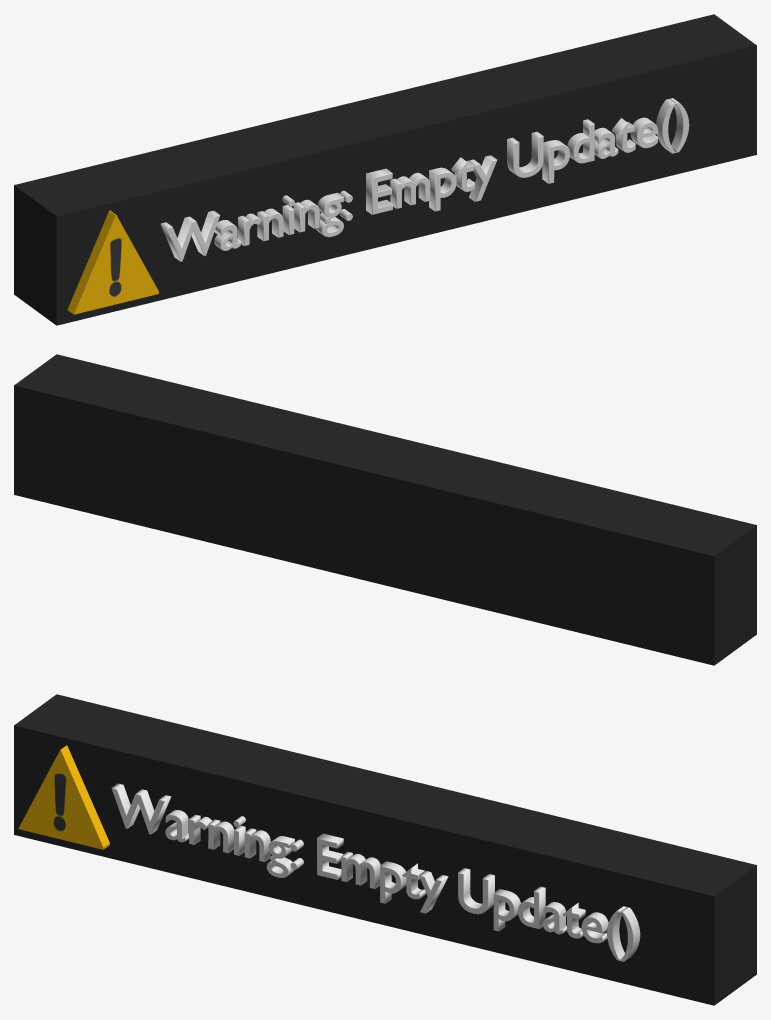
The model's file is Warning_ Empty Update().fbx.
3 views of the same model, one above another, from view 1: azimuth 30°, elevation 25°; view 2: azimuth 150°, elevation 25°; view 3: azimuth 330°, elevation 25° (orthographic).
Visible parts, largest first — view 1: no1, Warning: Empty Update(); view 2: no1; view 3: no1, Warning: Empty Update().
Part boxes in pixels (<box>): no1: <box>14,14,756,325</box>; Warning: Empty Update(): <box>160,98,689,261</box>; no1: <box>14,354,756,665</box>; no1: <box>14,694,756,1005</box>; Warning: Empty Update(): <box>111,783,640,961</box>.
Size of the model in its own units: 2646 by 395 by 322.
